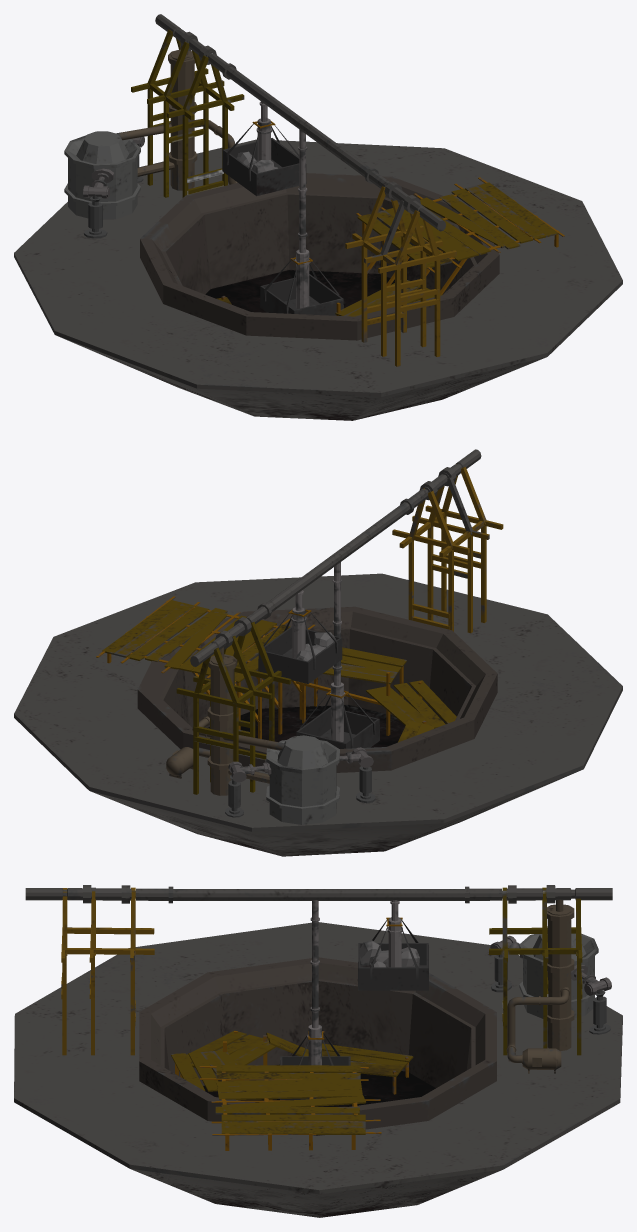
Rendered from Mine_sol_V3.fbx.
The picture shows the model from 3 angles, top to bottom: view 1: azimuth 30°, elevation 25°; view 2: azimuth 150°, elevation 25°; view 3: azimuth 270°, elevation 25°; orthographic projection. The views are drawn at different scales.
Parts seen in each view (by area): view 1: mine_Sol; view 2: mine_Sol; view 3: mine_Sol.
Boxes of the visible parts, <box> form: mine_Sol: <box>14,14,622,420</box>; mine_Sol: <box>14,449,622,856</box>; mine_Sol: <box>14,885,622,1217</box>.
Bounding box in the file's own units: 75.75 × 33.07 × 72.64.
